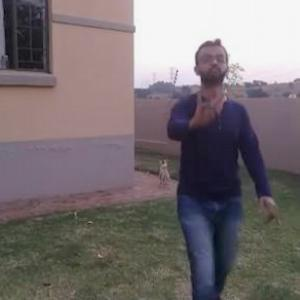takeoff-hand: (190, 80, 226, 126)
